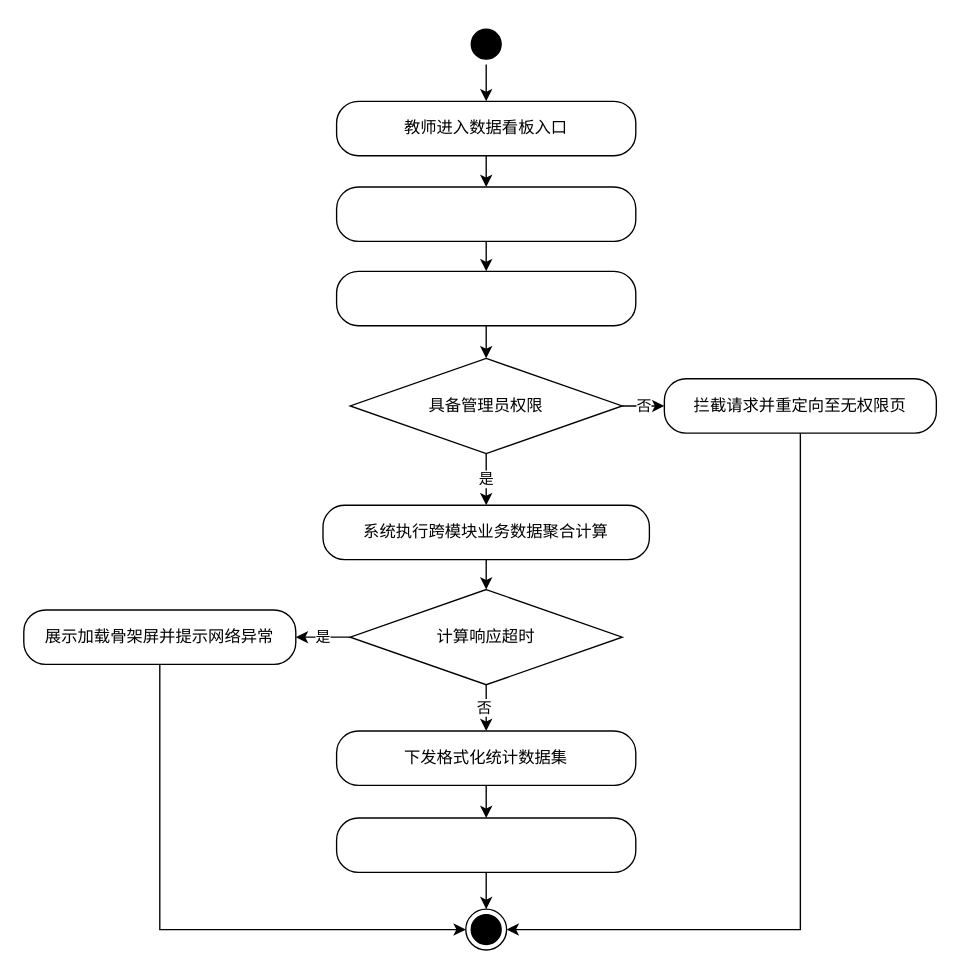
Some shapes in this 960 by 974 pixel diagram are drawn without their labels. Each missing label, with the centre of its shape:
发起核心指标聚合查询请求: the point at 485,213
系统拦截并校验操作人权限级别: the point at 485,298
页面渲染可视化图表看板: the point at 485,844
